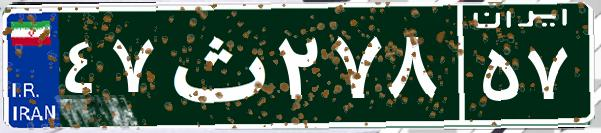2: (273, 28, 330, 110)
4: (57, 26, 110, 107)
5: (475, 38, 525, 113)
7: (330, 28, 385, 110), (110, 28, 158, 105), (525, 38, 570, 115)
8: (385, 28, 445, 110)
ث: (158, 15, 273, 115)
